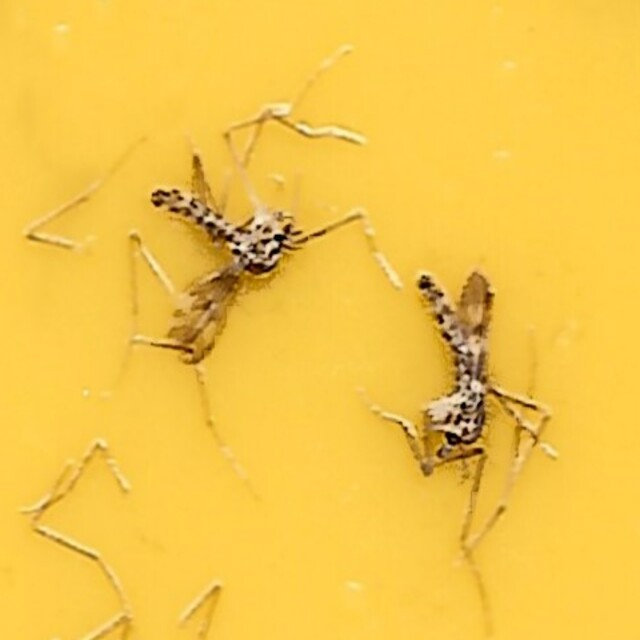Nematocera: (133, 163, 304, 360), (408, 257, 507, 477)
